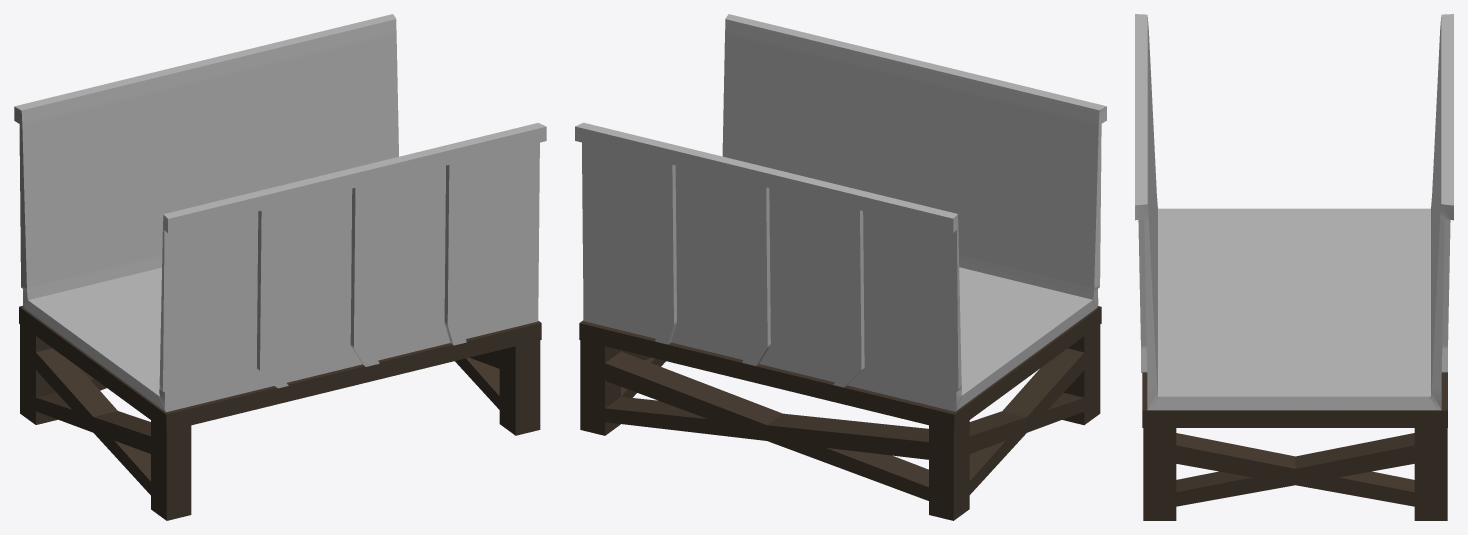
Rendered from log_container.fbx.
3 renders of one model, left to right at view 1: azimuth 30°, elevation 25°; view 2: azimuth 150°, elevation 25°; view 3: azimuth 270°, elevation 25°, orthographic. The views are drawn at different scales.
Visible parts, largest first — view 1: dummper1, pCube34; view 2: dummper1, pCube34; view 3: dummper1, pCube34.
Boxes of the visible parts, box(x1,y1,x2,y2) form: dummper1: box(14, 14, 546, 412); pCube34: box(19, 305, 541, 520); dummper1: box(575, 14, 1106, 411); pCube34: box(579, 306, 1101, 520); dummper1: box(1135, 14, 1453, 410); pCube34: box(1142, 372, 1447, 520).
Bounding box in the file's own units: 527 × 406 × 371.
